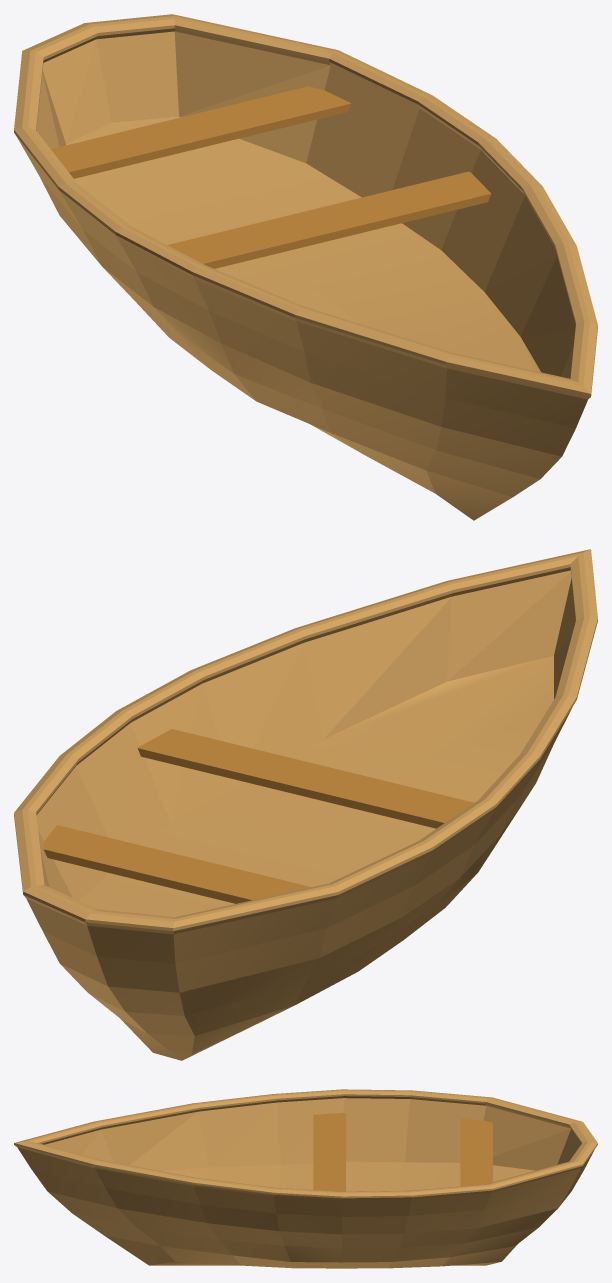
File: rowboat_01_a.fbx
The picture shows the model from 3 angles, top to bottom: view 1: azimuth 30°, elevation 25°; view 2: azimuth 150°, elevation 25°; view 3: azimuth 270°, elevation 25°; orthographic projection. The views are drawn at different scales.
Parts seen in each view (by area): view 1: RowBoat_01_a; view 2: RowBoat_01_a; view 3: RowBoat_01_a.
Boxes of the visible parts, left/top/right/bottom form: RowBoat_01_a: left=14, top=14, right=597, bottom=520; RowBoat_01_a: left=14, top=549, right=597, bottom=1060; RowBoat_01_a: left=14, top=1089, right=597, bottom=1268.
Size of the model in its own units: 65.82 by 152 by 35.5.
